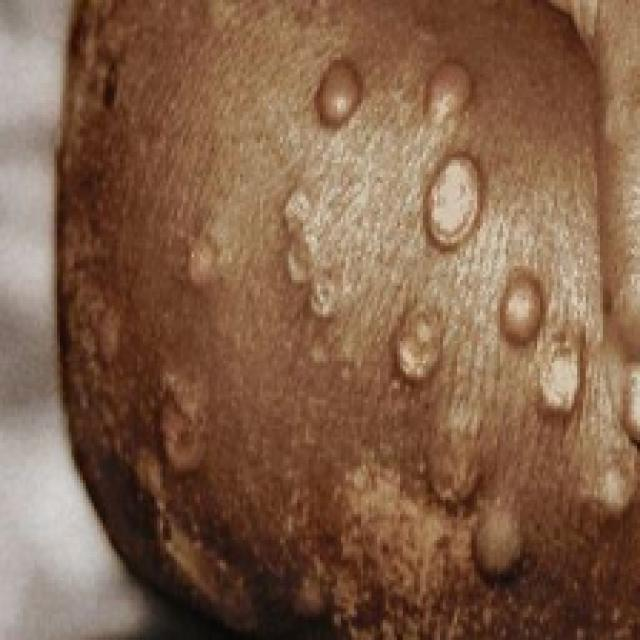Eczema: (145, 53, 616, 596)
